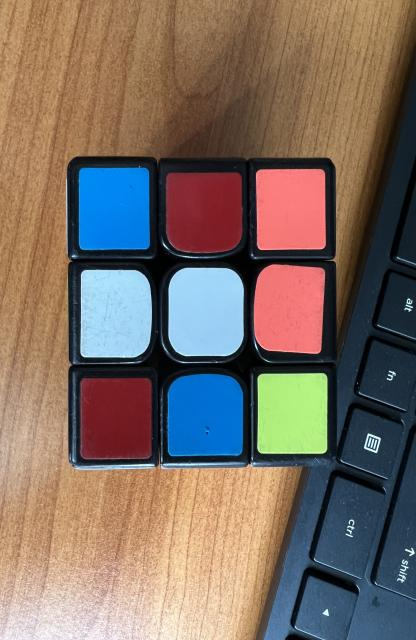Blue: (168, 374, 244, 456), (79, 168, 151, 250)
Orange: (254, 265, 325, 354), (256, 169, 326, 250)
Red: (167, 172, 243, 252), (80, 378, 152, 459)
White: (168, 268, 244, 356), (80, 270, 152, 358)
Yellow: (257, 372, 327, 454)
